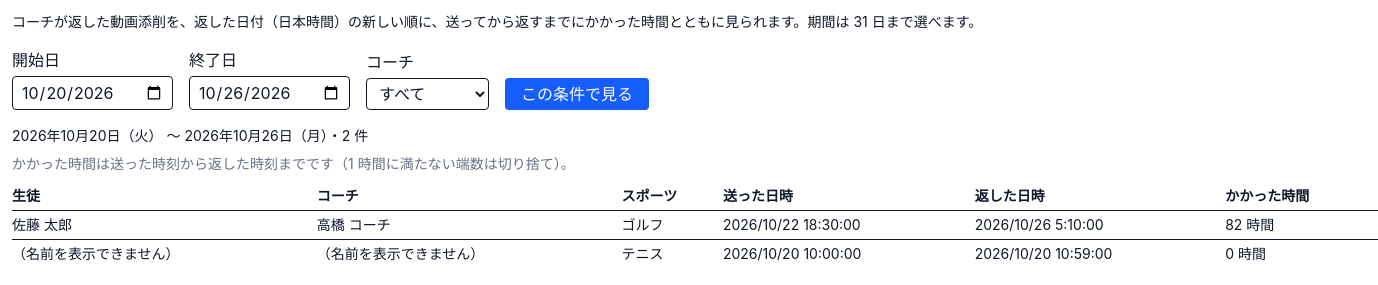
Test: 本部の返した動画添削 › コーチで絞って 0 件なら「この期間にこのコーチが返した動画添削はありません」と出す
This screenshot has width=1378, height=285.
Expected: the table is shown, [12,182,1377,268]
Select "鈴木 コーチ" in the dropdown labelled "コーチ" at (428,94), box [366,78,489,110]
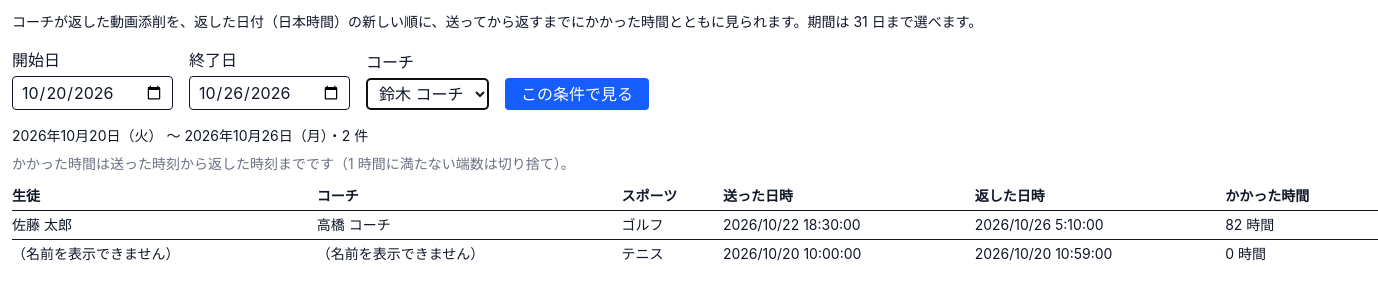
Click the button "この条件で見る" at (577,94), box [505,78,649,110]
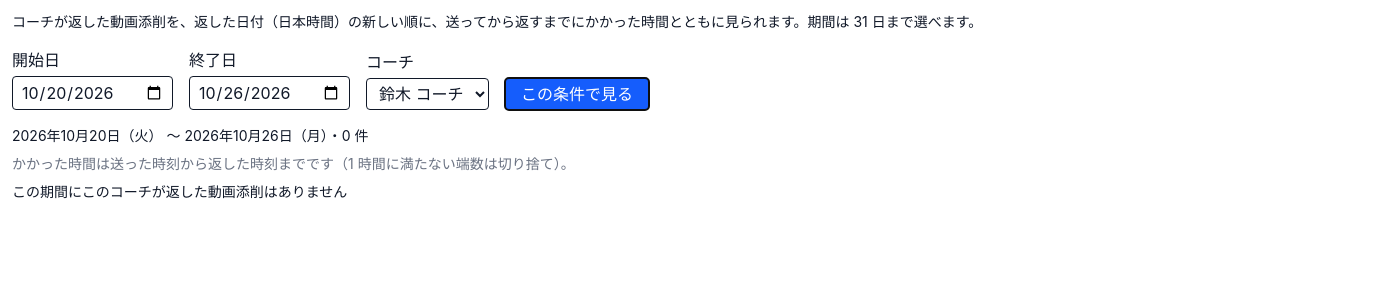
Expected: the text "この期間にこのコーチが返した動画添削はありません" is shown, [12,183,347,200]
Expected: the table is gone
